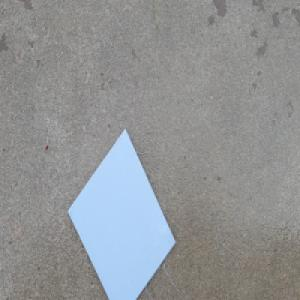PaintChip: (66, 127, 176, 299)
